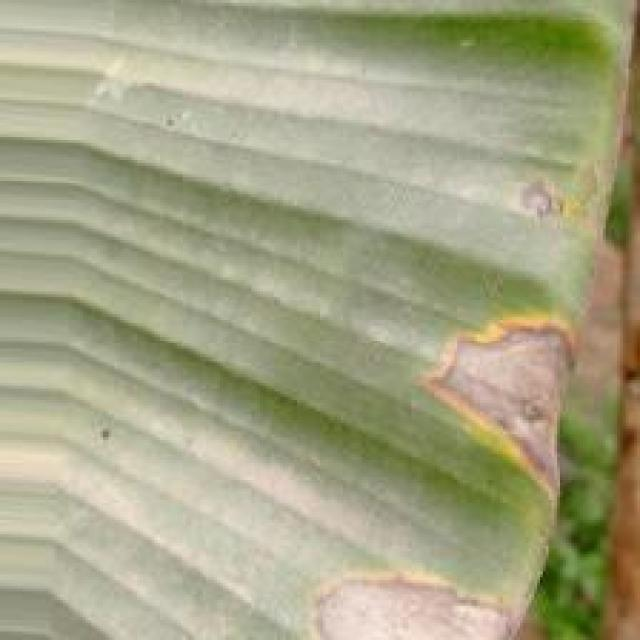Bacterial_spot: (426, 275, 596, 510), (284, 556, 530, 640), (504, 153, 604, 240)
